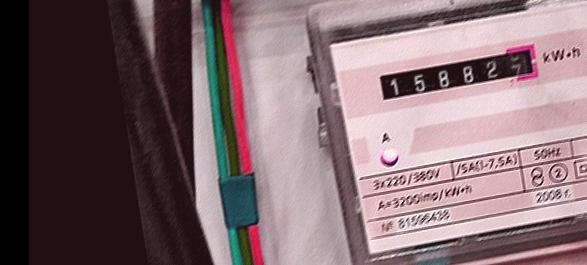1: (388, 74, 402, 95)
2: (485, 57, 500, 77)
5: (412, 70, 427, 92)
7: (511, 60, 524, 76)
8: (437, 65, 452, 88), (462, 61, 477, 84)
screen: (370, 35, 550, 108)
